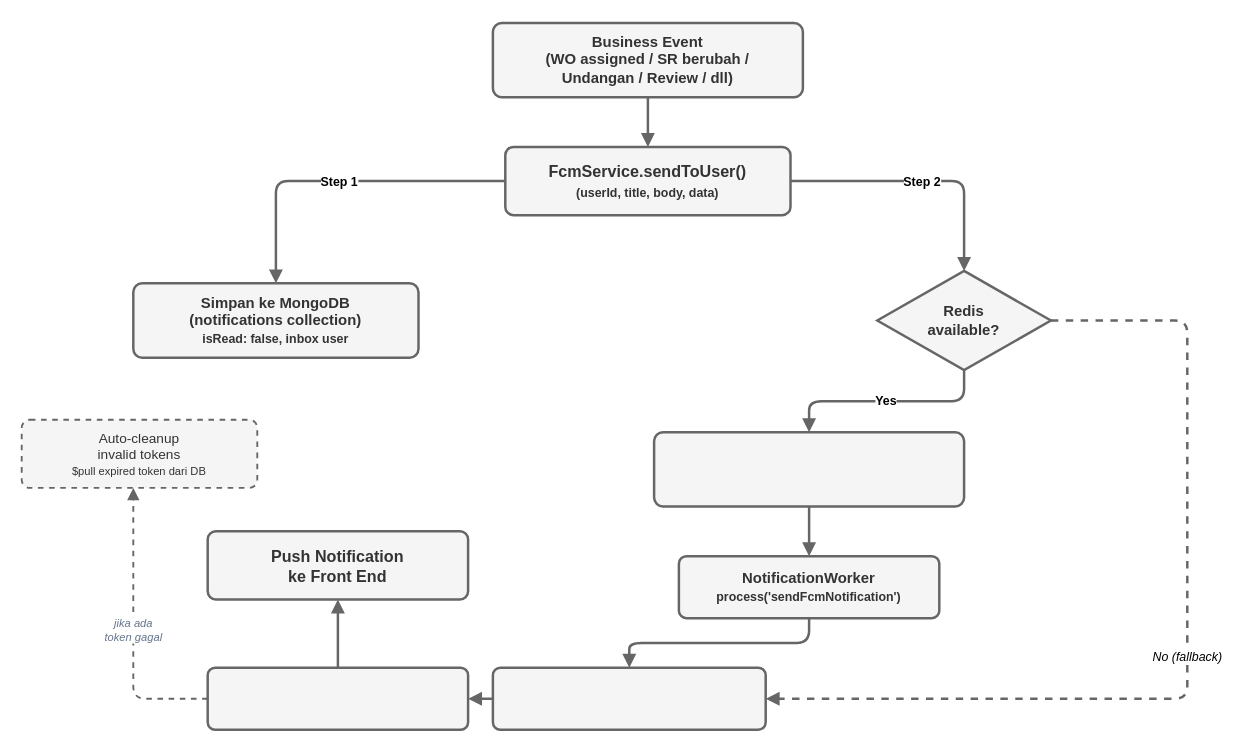
The diagram is 1244 pixels wide and 751 high, and some of its shapes have lost their labels. Each missing label, with the centre of its shape:
BullMQ Queue (notification) attempts: 3, backoff: exponential: the point at 808,468
Firebase Admin SDK sendEachForMulticast(): the point at 337,698
sendFcmDirect() Ambil fcmTokens dari user: the point at 628,698
